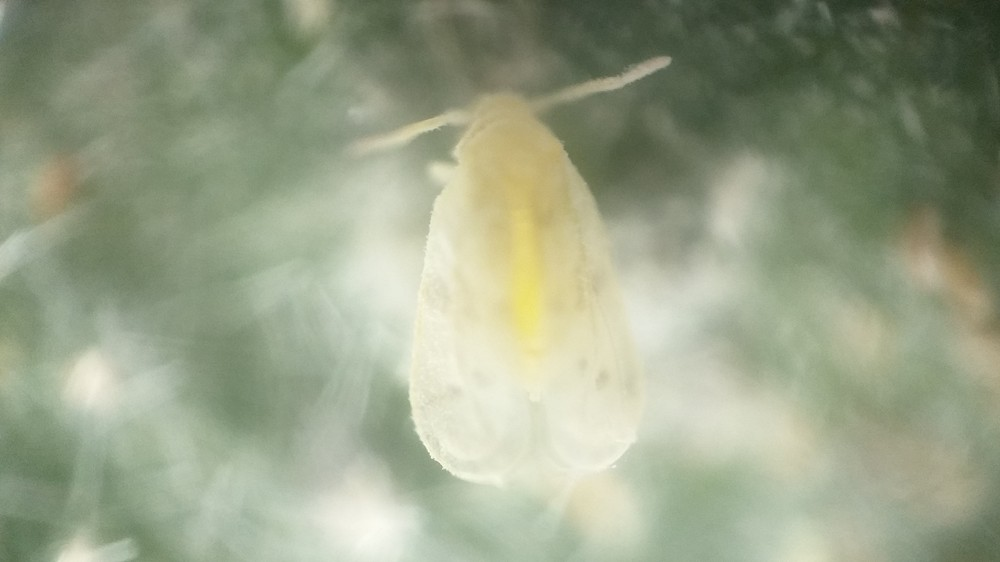Mosca Blanca: (306, 47, 695, 506)
